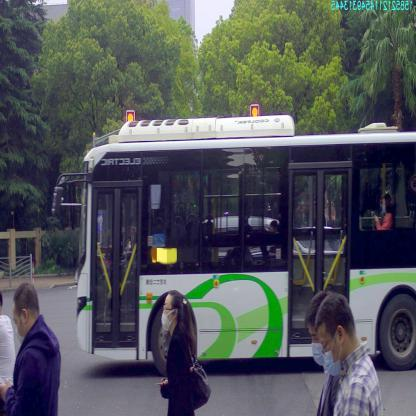traffic-light: (127, 111, 135, 122), (251, 106, 259, 116)
